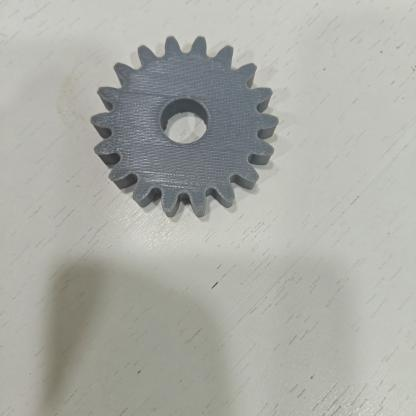gear: (90, 36, 278, 217)
